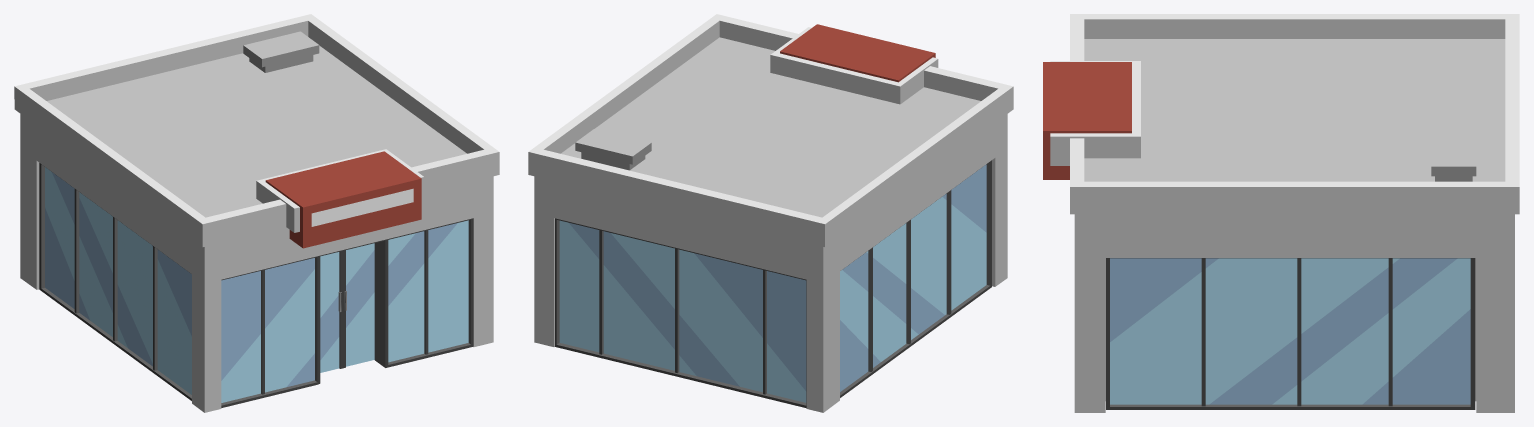
The model's file is supermarket_002.fbx.
The picture shows the model from 3 angles, left to right: view 1: azimuth 30°, elevation 25°; view 2: azimuth 150°, elevation 25°; view 3: azimuth 270°, elevation 25°; orthographic projection. The views are drawn at different scales.
Visible parts, largest first — view 1: supermarket_002; view 2: supermarket_002; view 3: supermarket_002.
Part boxes in pixels (box(x1,y1,x2,y2)): supermarket_002: box(14, 14, 499, 412); supermarket_002: box(528, 14, 1013, 412); supermarket_002: box(1043, 14, 1519, 412).
Size of the model in its own units: 520 by 327 by 606.
